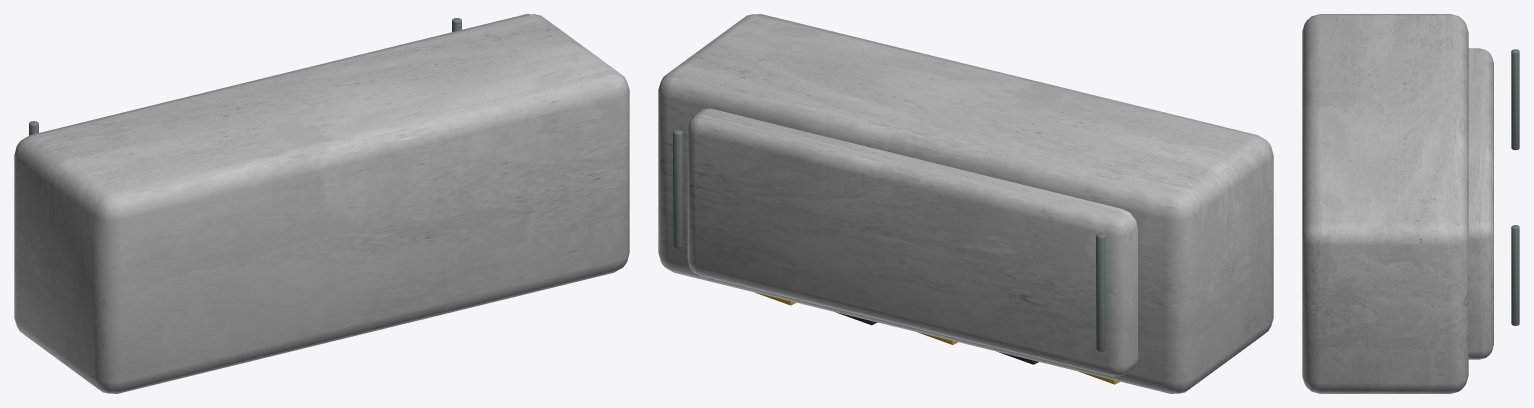
File: concrete_barrier_v3.glb
3 views of the same model, side by side, from view 1: azimuth 30°, elevation 25°; view 2: azimuth 150°, elevation 25°; view 3: azimuth 270°, elevation 25° (orthographic). The views are drawn at different scales.
Visible parts, largest first — view 1: BarrierBase; view 2: BarrierBase, BarrierTop, Rebar-1.15, Rebar1.15; view 3: BarrierBase, BarrierTop, Rebar1.15, Rebar-1.15.
Part boxes in pixels (bbox=[...]): BarrierBase: bbox=[14, 14, 629, 393]; BarrierBase: bbox=[658, 14, 1273, 393]; BarrierTop: bbox=[687, 108, 1137, 376]; Rebar-1.15: bbox=[1096, 233, 1105, 351]; Rebar1.15: bbox=[673, 130, 682, 248]; BarrierBase: bbox=[1302, 14, 1468, 393]; BarrierTop: bbox=[1468, 48, 1493, 359]; Rebar1.15: bbox=[1511, 225, 1519, 325]; Rebar-1.15: bbox=[1511, 49, 1519, 150].
Bounding box in the file's own units: 2.9 × 1.07 × 1.2.
Materials: 4 (1 with a texture image).
